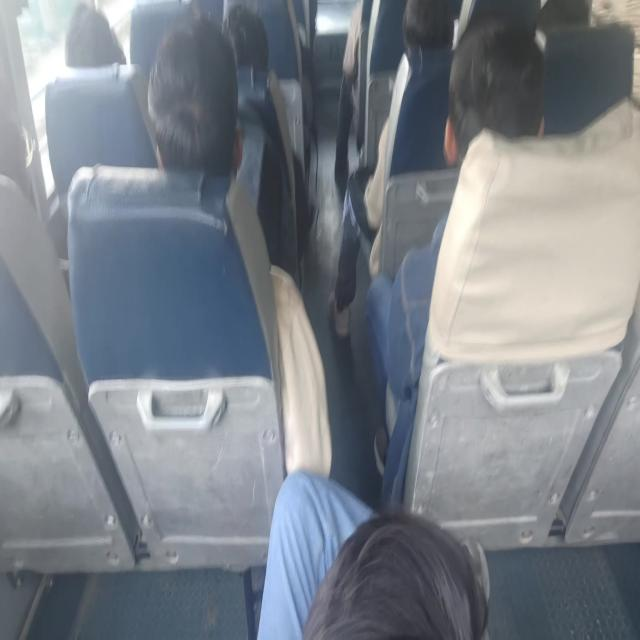person: (146, 16, 332, 477), (365, 14, 546, 482), (328, 0, 457, 337), (256, 468, 491, 638), (221, 2, 303, 286), (146, 16, 242, 176), (64, 2, 127, 68)
